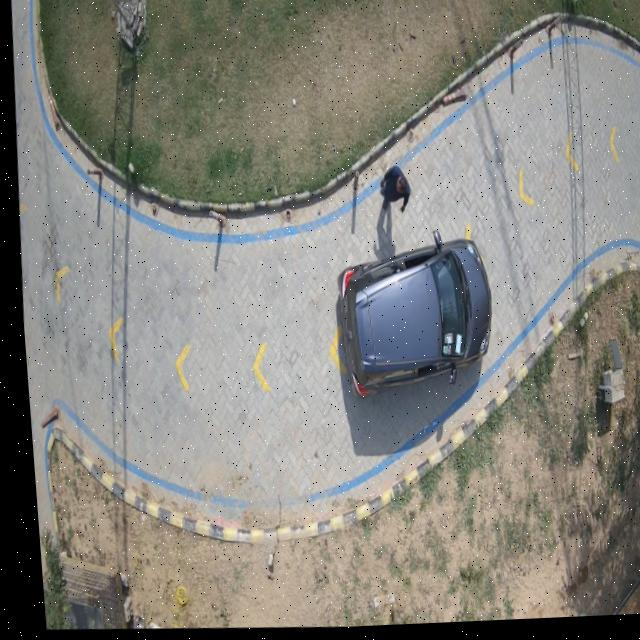car: (331, 241, 487, 403)
